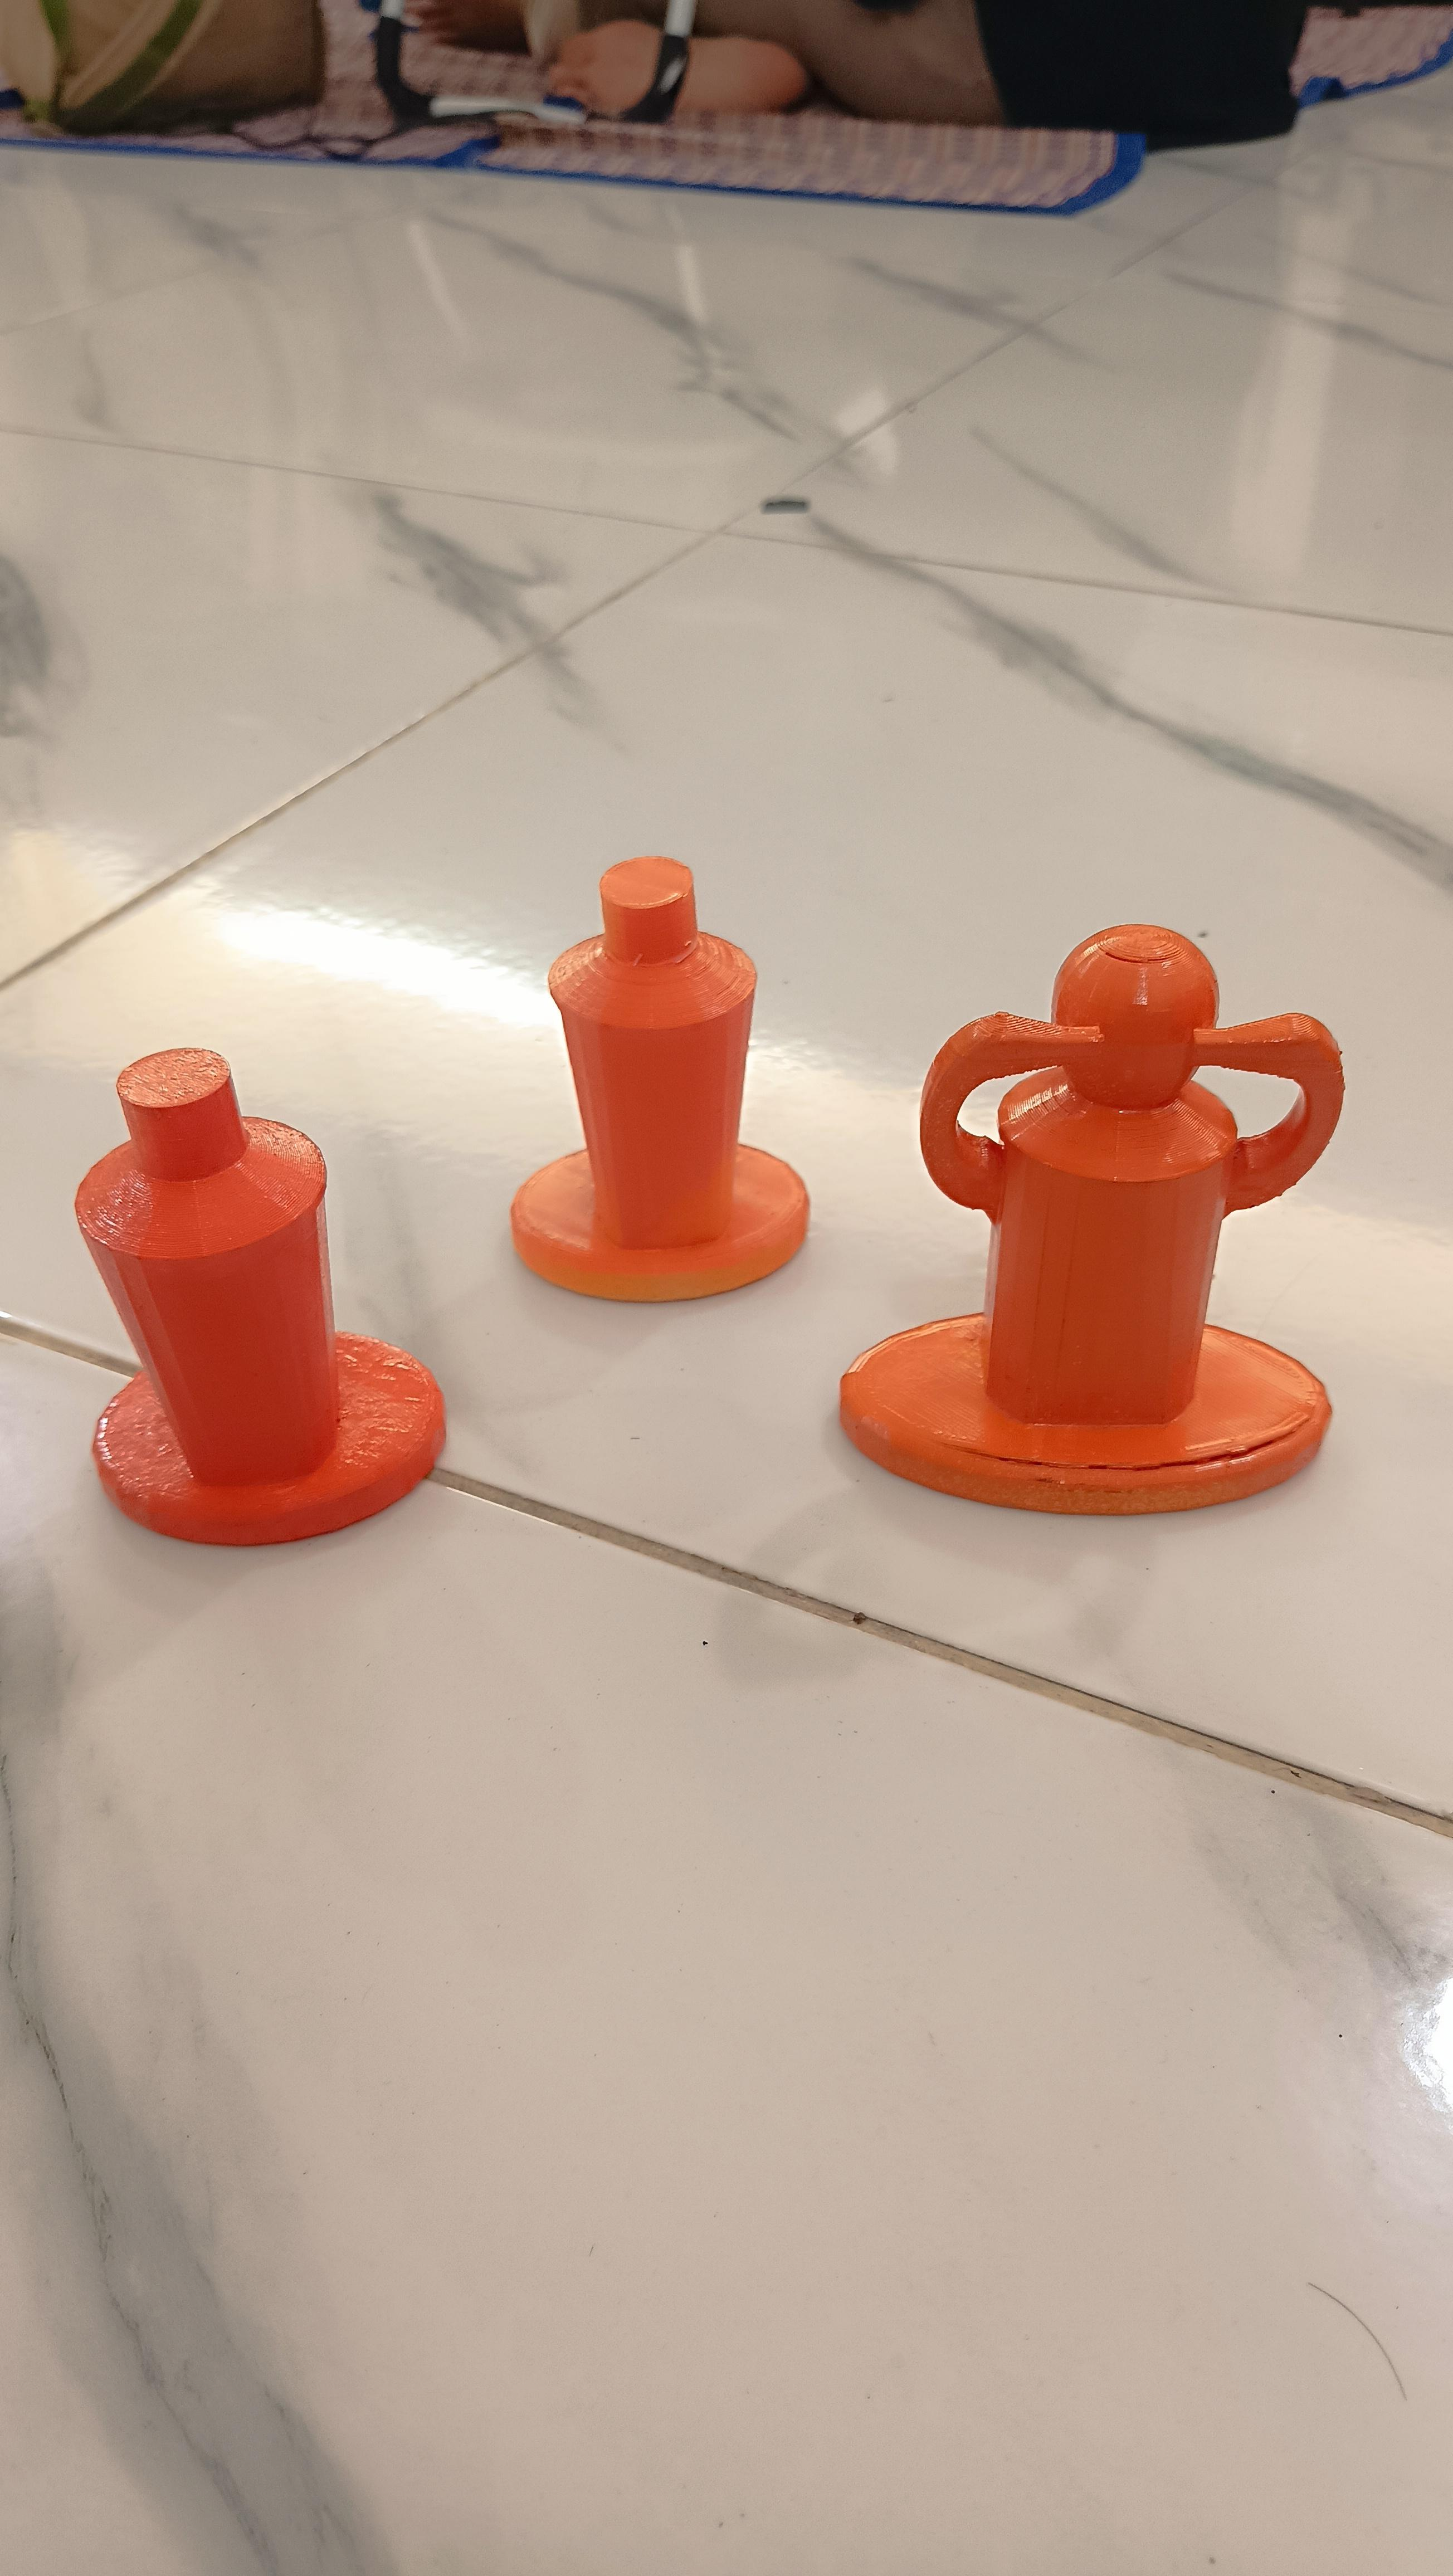dummy: (33, 1025, 456, 1589), (471, 816, 819, 1333)
real_person: (833, 861, 1362, 1565)
